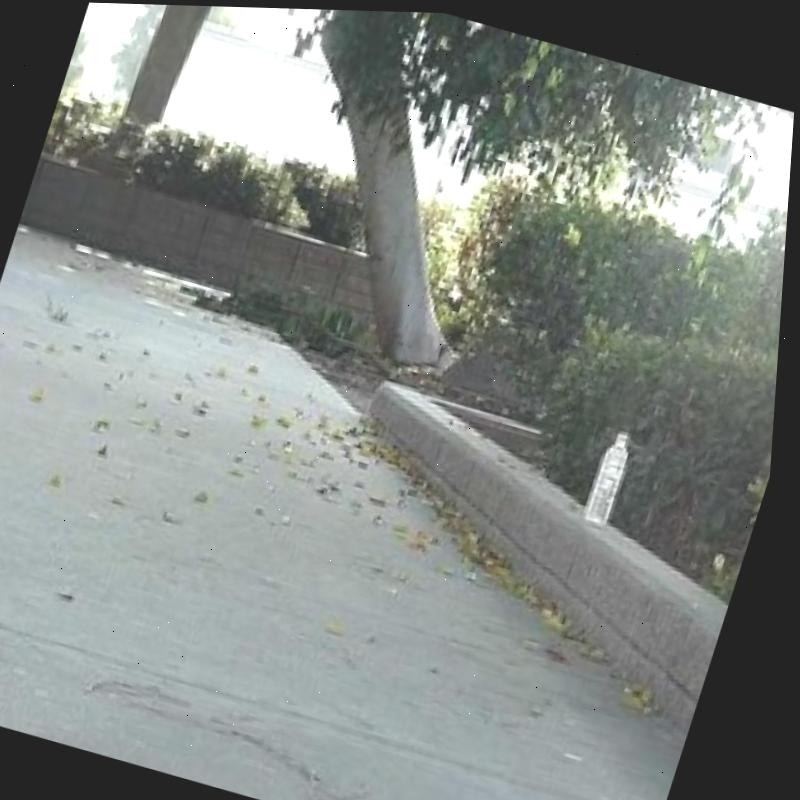botella: (587, 424, 639, 522)
